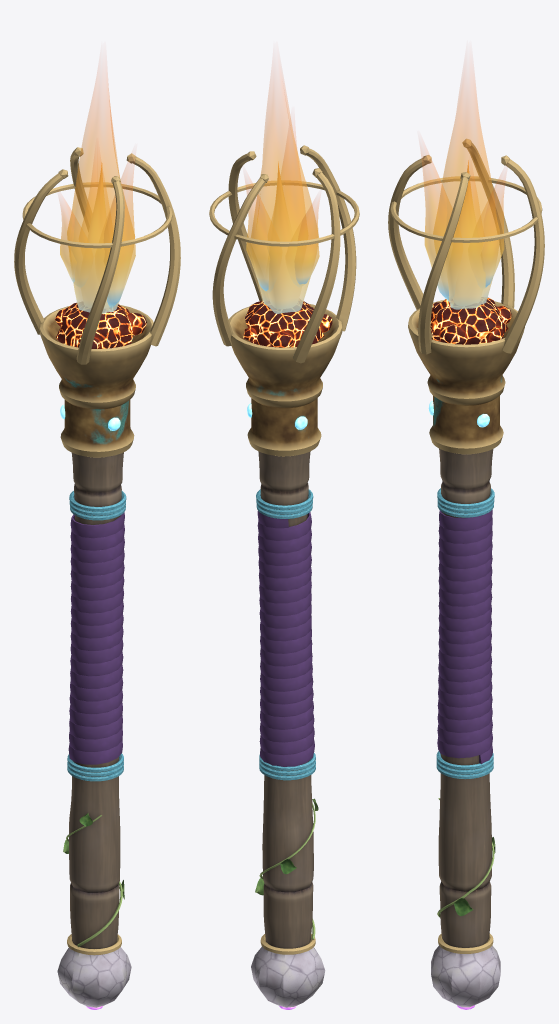
Rendered from torch.glb.
3 views of the same model, side by side, from view 1: azimuth 30°, elevation 25°; view 2: azimuth 150°, elevation 25°; view 3: azimuth 270°, elevation 25° (orthographic).
Visible parts, largest first — view 1: Torch_Body, Torch_Flame, Torch_Ember, Torch_FlameCore; view 2: Torch_Body, Torch_Flame, Torch_Ember, Torch_FlameCore; view 3: Torch_Body, Torch_Flame, Torch_Ember, Torch_FlameCore.
Boxes of the visible parts, left/top/right/bottom form: Torch_Body: left=14, top=147, right=180, bottom=1009; Torch_Flame: left=59, top=70, right=135, bottom=313; Torch_Ember: left=55, top=302, right=146, bottom=348; Torch_FlameCore: left=81, top=163, right=108, bottom=307; Torch_Body: left=209, top=145, right=359, bottom=1009; Torch_Flame: left=245, top=69, right=319, bottom=313; Torch_Ember: left=243, top=299, right=332, bottom=347; Torch_FlameCore: left=268, top=162, right=301, bottom=307; Torch_Body: left=388, top=138, right=544, bottom=1009; Torch_Flame: left=420, top=69, right=505, bottom=309; Torch_Ember: left=430, top=297, right=511, bottom=344; Torch_FlameCore: left=454, top=160, right=480, bottom=304.
Size of the model in its own units: 0.1211 by 0.8533 by 0.1212.
4 materials, 4 textured.
